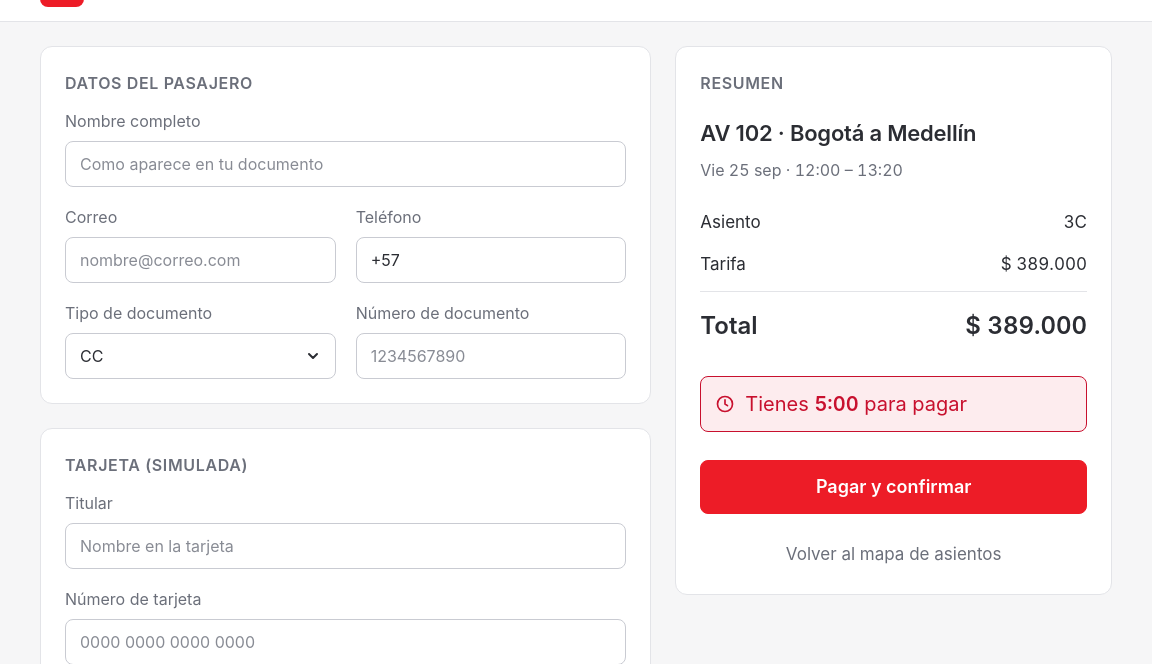
Test case: CheckoutPage: the form › formats the card and the expiry while typing, and keeps the CVV to digits
This screenshot has width=1152, height=664.
Expected: the button "Pagar y confirmar" is shown, 700,460 -> 1087,514
In the field with id "cardNumber": (346, 642) 65,619 -> 626,663, type "4111111111111111"
(page scrolled)
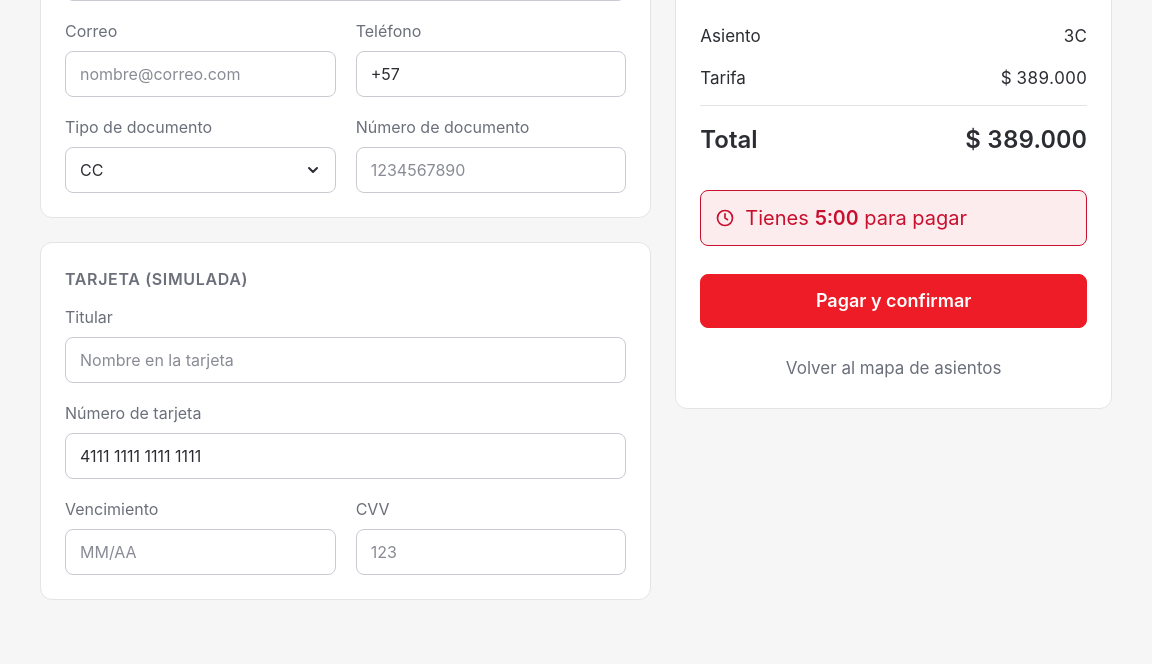
In the field with id "expiry": (200, 552) 65,529 -> 336,575, type "1230"
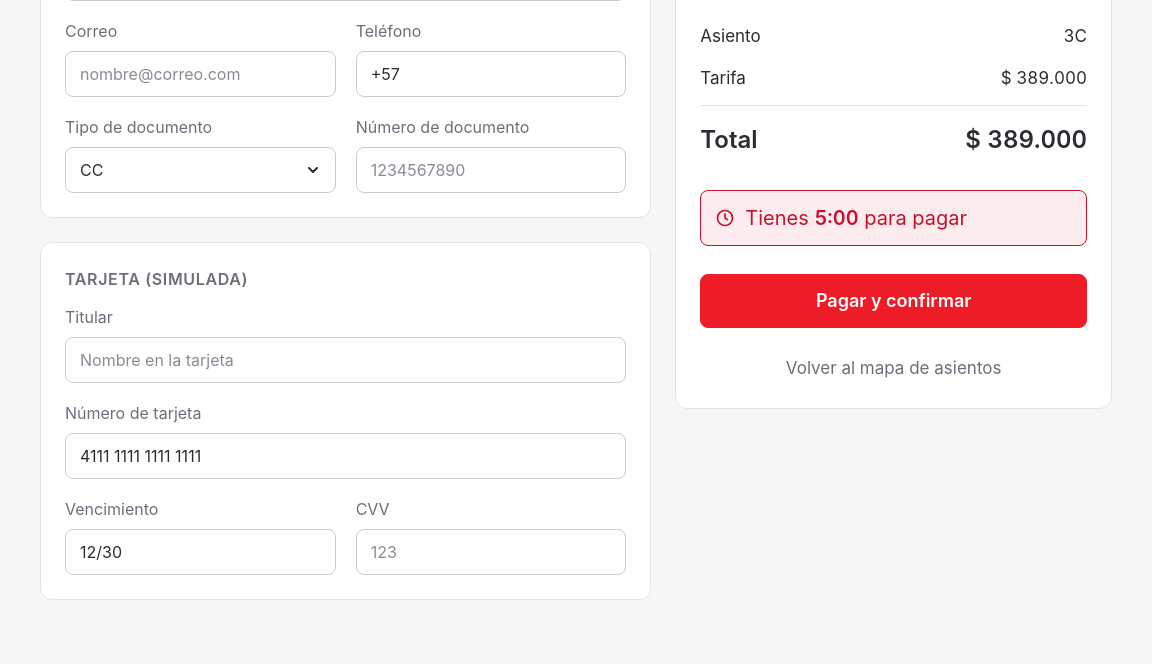
In the password field with id "cvv": (491, 552) 356,529 -> 626,575, type "12a3"
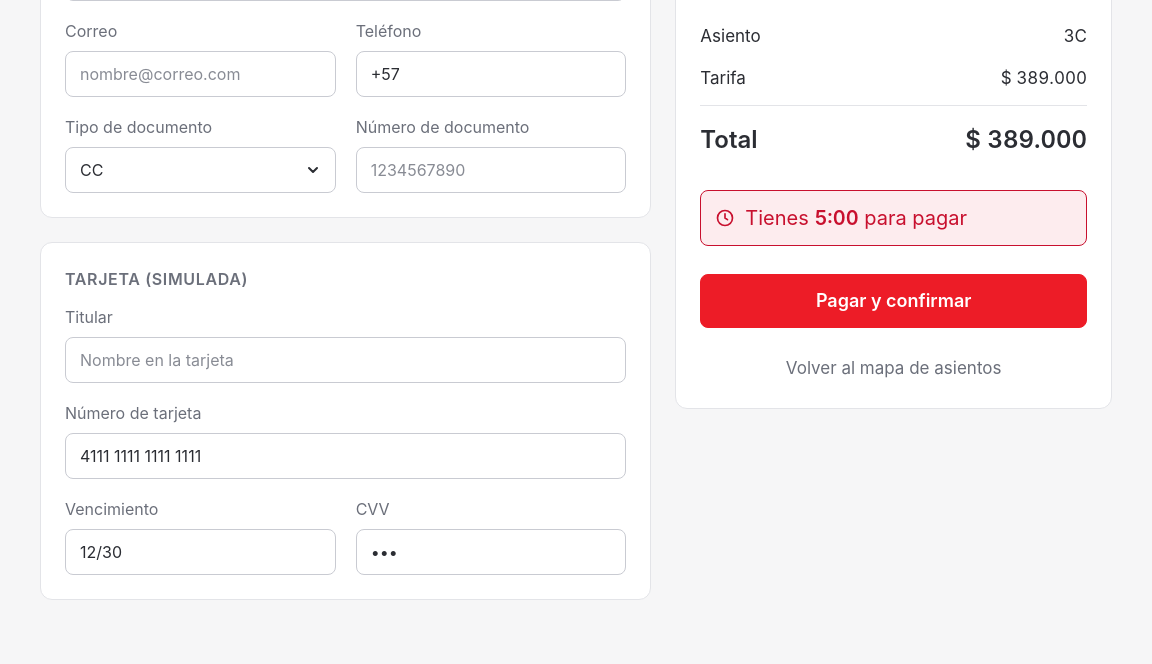
Expected: the field with id "cardNumber" holds "4111 1111 1111 1111", 65,433 -> 626,479
Expected: the field with id "expiry" holds "12/30", 65,529 -> 336,575
Expected: the password field with id "cvv" holds "123", 356,529 -> 626,575
